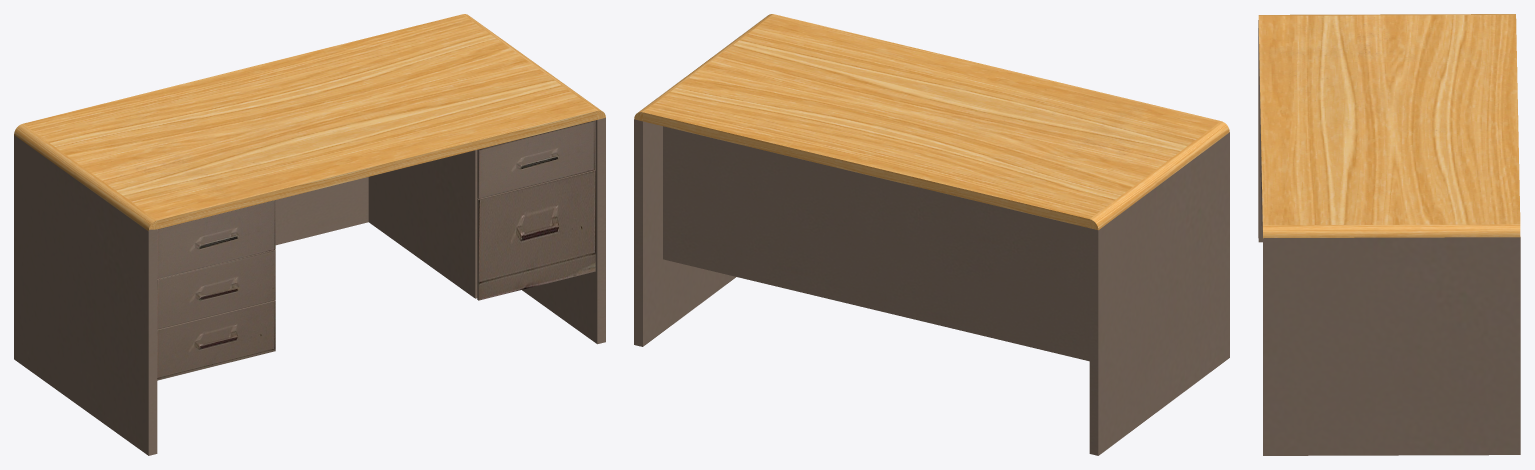
File: desk 2.fbx
3 views of the same model, side by side, from view 1: azimuth 30°, elevation 25°; view 2: azimuth 150°, elevation 25°; view 3: azimuth 270°, elevation 25° (orthographic). The views are drawn at different scales.
Visible parts, largest first — view 1: deskmetal, deskwood; view 2: deskmetal, deskwood; view 3: deskwood, deskmetal.
Boxes of the visible parts, <box> form: deskmetal: <box>14,118,605,455</box>; deskwood: <box>14,14,605,231</box>; deskmetal: <box>634,119,1229,455</box>; deskwood: <box>634,14,1229,230</box>; deskwood: <box>1258,14,1520,238</box>; deskmetal: <box>1258,20,1520,455</box>.
Size of the model in its own units: 1.53 by 0.7398 by 0.7753.
